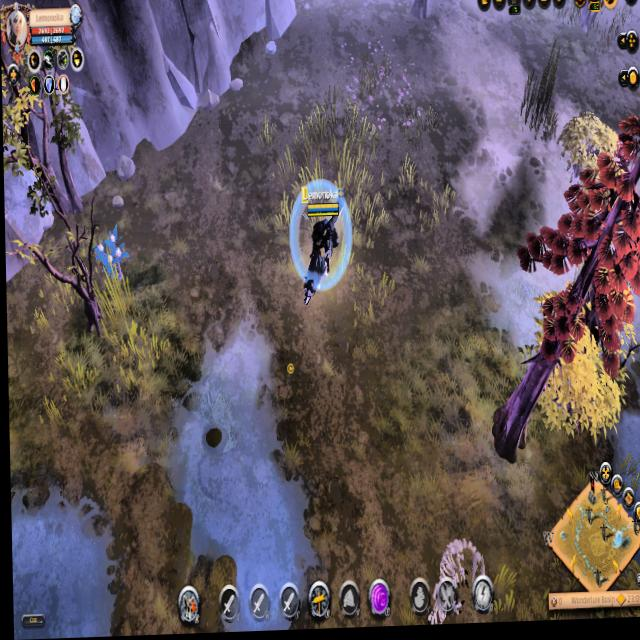fiber tier 4: (91, 229, 131, 284)
wood tier 5: (512, 120, 640, 375)
